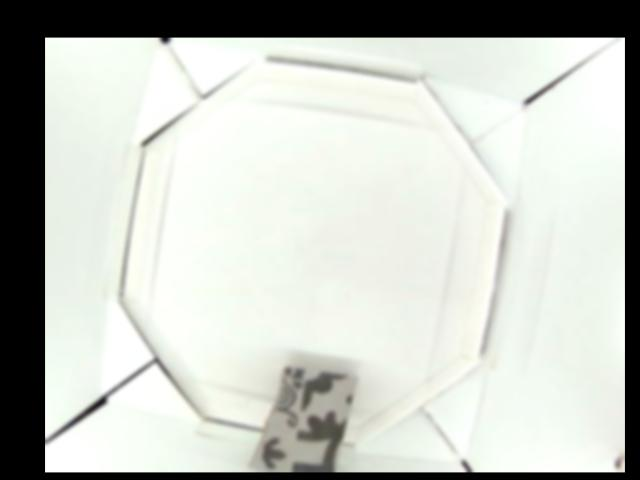China: (241, 366, 357, 472)
